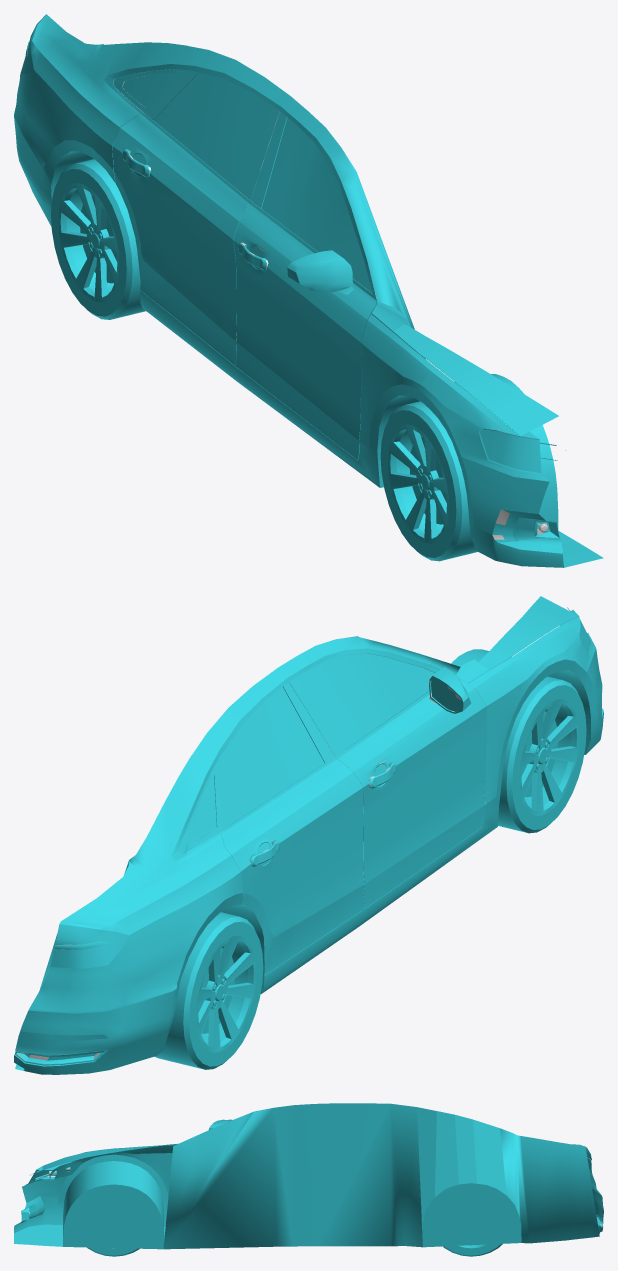
The model's file is luxury-car-2-right.glb.
The picture shows the model from 3 angles, top to bottom: view 1: azimuth 30°, elevation 25°; view 2: azimuth 150°, elevation 25°; view 3: azimuth 270°, elevation 25°; orthographic projection. The views are drawn at different scales.
Parts seen in each view (by area): view 1: Wheel_Front_right; view 2: Wheel_Front_right; view 3: Wheel_Front_right.
Part boxes in pixels (x1,y1,x2,y2): Wheel_Front_right: (14,14,603,567); Wheel_Front_right: (14,596,603,1074); Wheel_Front_right: (14,1103,603,1256).
Size of the model in its own units: 0.6224 by 1.48 by 4.95.
